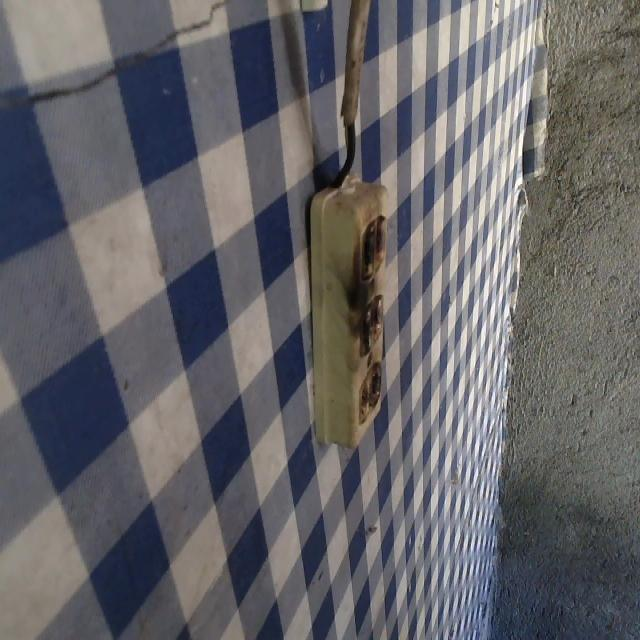-: (355, 211, 385, 284), (354, 357, 385, 419), (355, 290, 382, 350)
